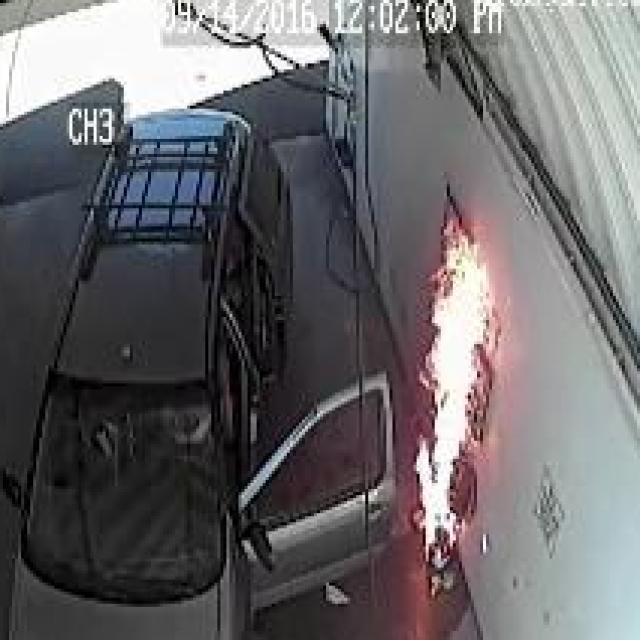smoke: (404, 212, 508, 570)
